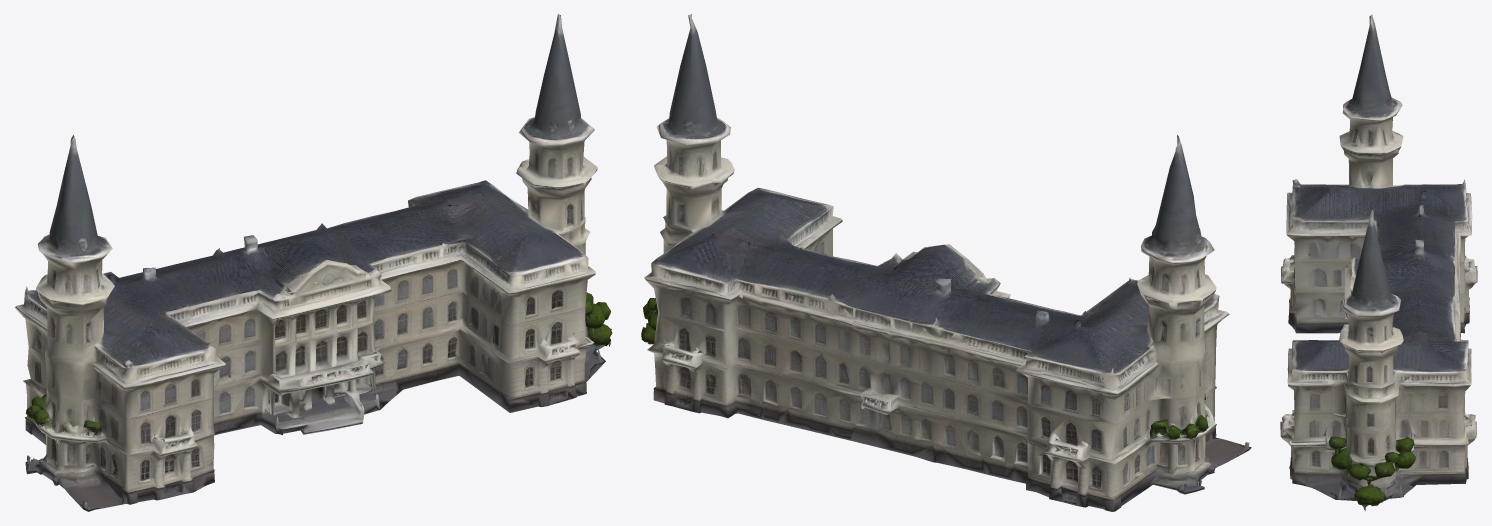
File: kuleli.glb
3 renders of one model, left to right at view 1: azimuth 30°, elevation 25°; view 2: azimuth 150°, elevation 25°; view 3: azimuth 270°, elevation 25°, orthographic. The views are drawn at different scales.
Visible parts, largest first — view 1: tripo_node_91358a22-230d-4dd7-a28a-89d802b56022; view 2: tripo_node_91358a22-230d-4dd7-a28a-89d802b56022; view 3: tripo_node_91358a22-230d-4dd7-a28a-89d802b56022.
Part boxes in pixels (x1=…): tripo_node_91358a22-230d-4dd7-a28a-89d802b56022: x1=14, y1=14, x2=612, y2=511; tripo_node_91358a22-230d-4dd7-a28a-89d802b56022: x1=641, y1=14, x2=1251, y2=511; tripo_node_91358a22-230d-4dd7-a28a-89d802b56022: x1=1280, y1=14, x2=1477, y2=510.
Bounding box in the file's own units: 1 × 0.5721 × 0.3608.
Materials: 1 (1 with a texture image).
